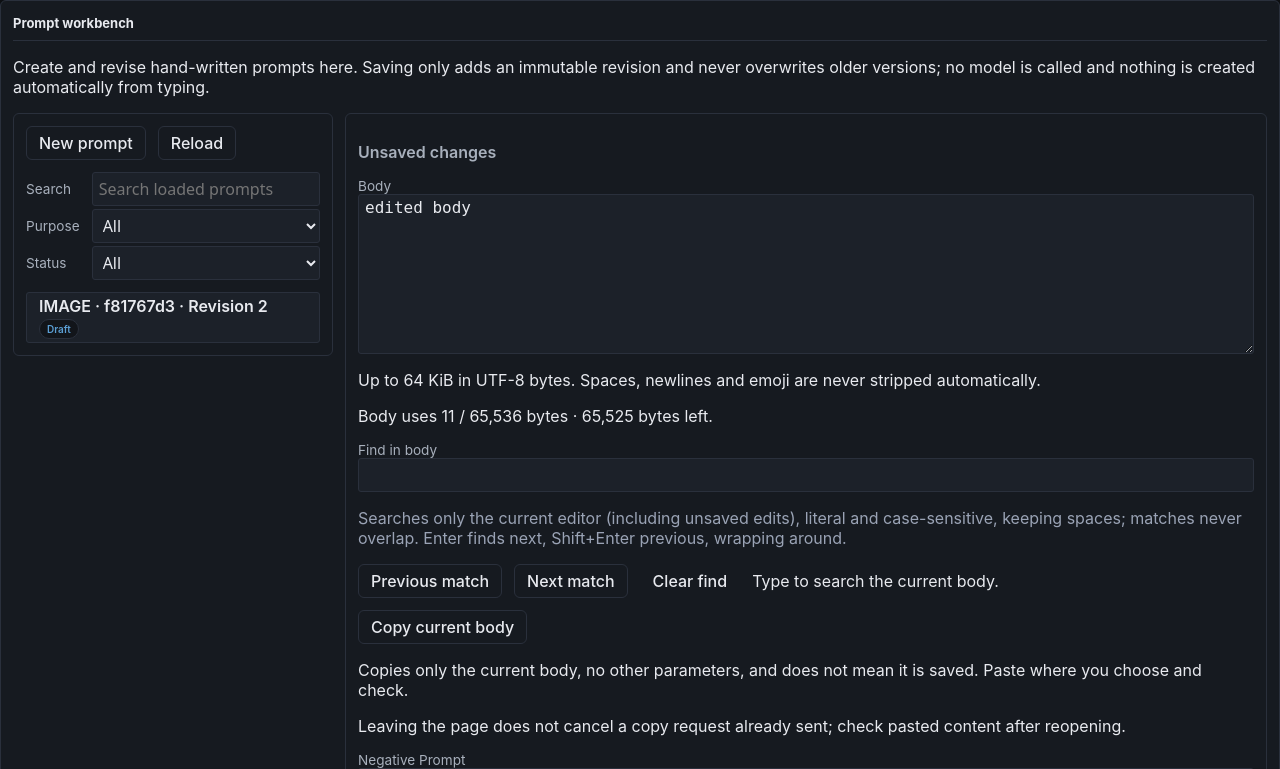
it: 403 SDK denial (detail read) is English
Click the button "IMAGE · f81767d3 · Revision 2 Draft" at (173, 318), box 26,292 -> 320,343
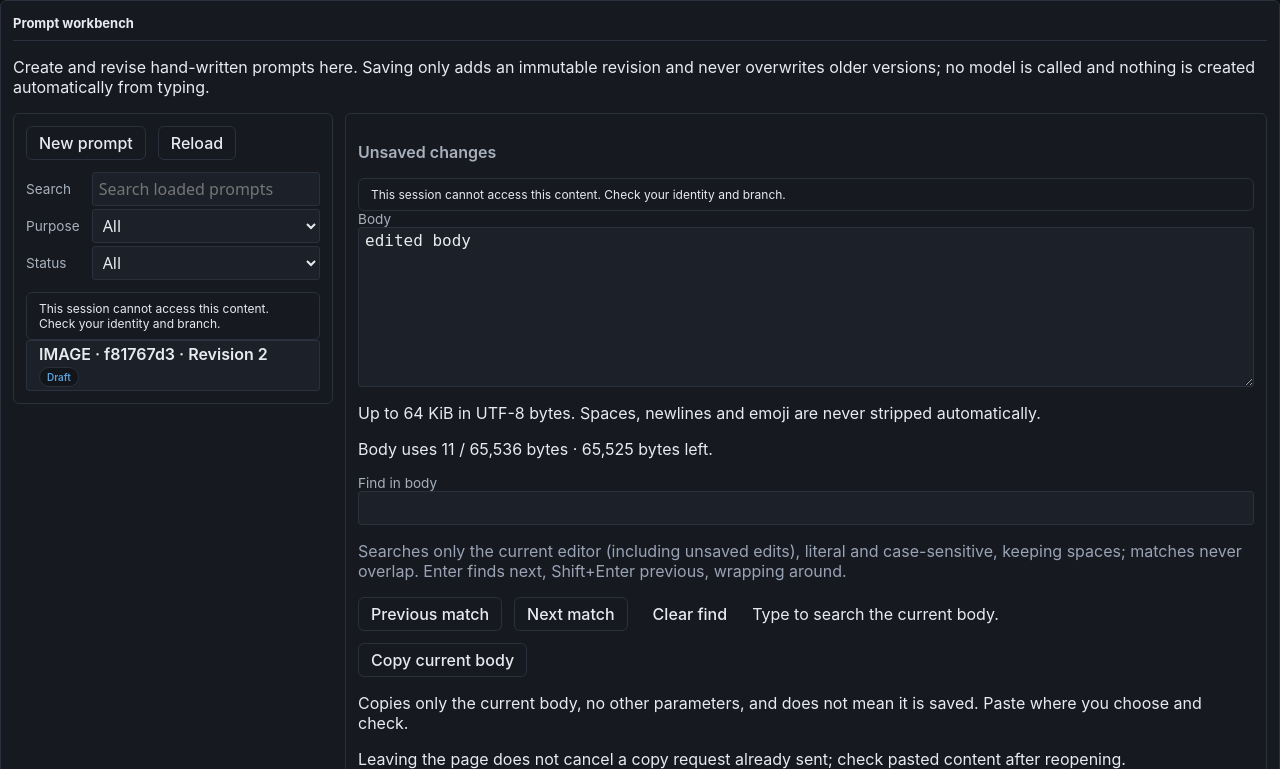
Expected: the text "This session cannot access this content. Check your identity and branch." is shown, 26,292 -> 320,340
